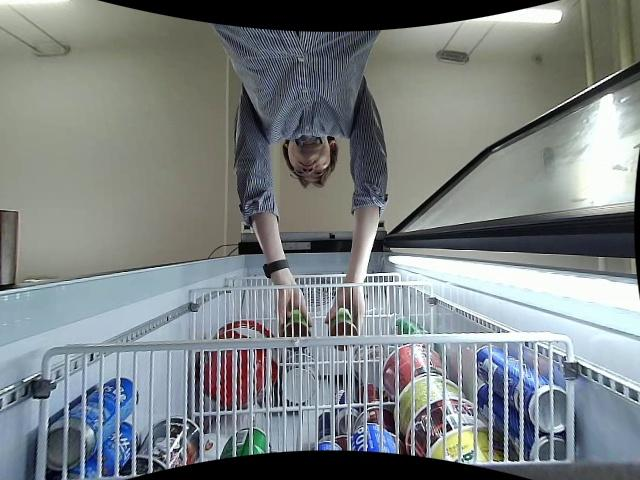00_hand: (324, 283, 366, 330), (276, 284, 312, 328)
19_17cha: (328, 309, 359, 352), (329, 307, 359, 351), (280, 309, 311, 351), (283, 309, 311, 350)
